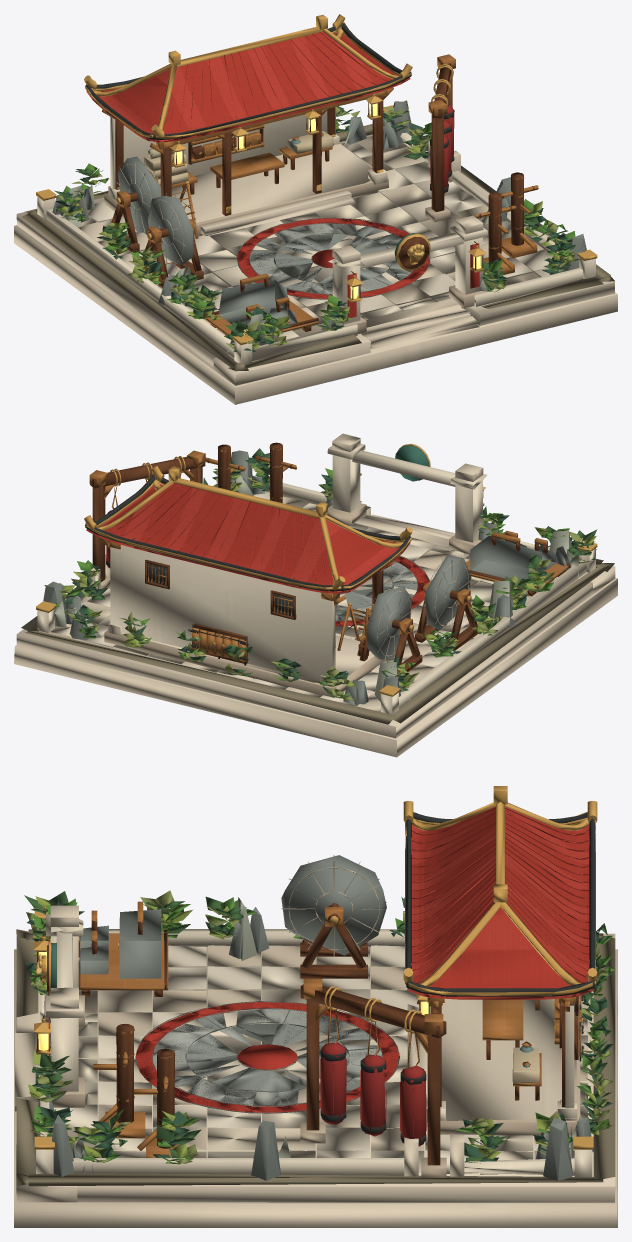
The model's file is martial-lod2-bcf5d50755c1.glb.
3 renders of one model, top to bottom at view 1: azimuth 30°, elevation 25°; view 2: azimuth 150°, elevation 25°; view 3: azimuth 270°, elevation 25°, orthographic. The views are drawn at different scales.
Parts seen in each view (by area): view 1: SM_Martial_MAT_CT2_Stone.008, SM_Martial_MAT_CT2_IvoryPlaster.008, SM_Martial_MAT_CT2_FoldedTerracotta.008, SM_Martial_MAT_CT2_DarkTimber.008, SM_Martial_MAT_CT2_TrainingStone.008, SM_Martial_MAT_CT2_FoldedTerracottaAlt.008, SM_Martial_MAT_CT2_MatteCopper.008, SM_Martial_MAT_CT2_HoneyTimber.008, SM_Martial_MAT_CT2_PlantingSoil.008, SM_Martial_MAT_CT2_PavingTone_1.008, SM_Martial_MAT_CT2_PracticeGreyStoneLight.008, SM_Martial_MAT_CT2_StoneShadow.008 (+16 smaller); view 2: SM_Martial_MAT_CT2_IvoryPlaster.008, SM_Martial_MAT_CT2_Stone.008, SM_Martial_MAT_CT2_FoldedTerracotta.008, SM_Martial_MAT_CT2_TrainingStone.008, SM_Martial_MAT_CT2_DarkTimber.008, SM_Martial_MAT_CT2_FoldedTerracottaAlt.008, SM_Martial_MAT_CT2_PlantingSoil.008, SM_Martial_MAT_CT2_MatteCopper.008, SM_Martial_MAT_CT2_StoneShadow.008, SM_Martial_MAT_CT2_HoneyTimber.008, SM_Martial_MAT_CT2_CharcoalTrim.008, SM_Martial_MAT_CT2_LeafGreen.008 (+13 smaller); view 3: SM_Martial_MAT_CT2_Stone.008, SM_Martial_MAT_CT2_FoldedTerracotta.008, SM_Martial_MAT_CT2_IvoryPlaster.008, SM_Martial_MAT_CT2_TrainingStone.008, SM_Martial_MAT_CT2_FoldedTerracottaAlt.008, SM_Martial_MAT_CT2_DarkTimber.008, SM_Martial_MAT_CT2_PlantingSoil.008, SM_Martial_MAT_CT2_HoneyTimber.008, SM_Martial_MAT_CT2_MatteCopper.008, SM_Martial_MAT_CT2_PavingTone_1.008, SM_Martial_MAT_CT2_PavingTone_3.008, SM_Martial_MAT_CT2_PavingTone_4.008 (+15 smaller).
Boxes of the visible parts, bbox=[...] form: SM_Martial_MAT_CT2_Stone.008: bbox=[14, 134, 617, 404]; SM_Martial_MAT_CT2_IvoryPlaster.008: bbox=[37, 107, 595, 364]; SM_Martial_MAT_CT2_FoldedTerracotta.008: bbox=[103, 32, 479, 317]; SM_Martial_MAT_CT2_DarkTimber.008: bbox=[111, 63, 534, 331]; SM_Martial_MAT_CT2_TrainingStone.008: bbox=[52, 101, 586, 345]; SM_Martial_MAT_CT2_FoldedTerracottaAlt.008: bbox=[86, 32, 450, 184]; SM_Martial_MAT_CT2_MatteCopper.008: bbox=[36, 14, 597, 345]; SM_Martial_MAT_CT2_HoneyTimber.008: bbox=[102, 54, 538, 334]; SM_Martial_MAT_CT2_PlantingSoil.008: bbox=[21, 124, 614, 371]; SM_Martial_MAT_CT2_PavingTone_1.008: bbox=[156, 142, 552, 341]; SM_Martial_MAT_CT2_PracticeGreyStoneLight.008: bbox=[249, 223, 401, 294]; SM_Martial_MAT_CT2_StoneShadow.008: bbox=[104, 143, 487, 333]; SM_Martial_MAT_CT2_IvoryPlaster.008: bbox=[37, 450, 595, 714]; SM_Martial_MAT_CT2_Stone.008: bbox=[14, 433, 617, 757]; SM_Martial_MAT_CT2_FoldedTerracotta.008: bbox=[90, 483, 429, 626]; SM_Martial_MAT_CT2_TrainingStone.008: bbox=[43, 450, 571, 705]; SM_Martial_MAT_CT2_DarkTimber.008: bbox=[90, 442, 570, 672]; SM_Martial_MAT_CT2_FoldedTerracottaAlt.008: bbox=[86, 483, 410, 593]; SM_Martial_MAT_CT2_PlantingSoil.008: bbox=[21, 484, 614, 724]; SM_Martial_MAT_CT2_MatteCopper.008: bbox=[36, 443, 597, 696]; SM_Martial_MAT_CT2_StoneShadow.008: bbox=[100, 503, 481, 697]; SM_Martial_MAT_CT2_HoneyTimber.008: bbox=[89, 446, 568, 662]; SM_Martial_MAT_CT2_CharcoalTrim.008: bbox=[85, 474, 411, 665]; SM_Martial_MAT_CT2_LeafGreen.008: bbox=[64, 448, 597, 694]; SM_Martial_MAT_CT2_Stone.008: bbox=[14, 905, 617, 1227]; SM_Martial_MAT_CT2_FoldedTerracotta.008: bbox=[48, 808, 593, 1113]; SM_Martial_MAT_CT2_IvoryPlaster.008: bbox=[36, 927, 592, 1177]; SM_Martial_MAT_CT2_TrainingStone.008: bbox=[44, 855, 593, 1180]; SM_Martial_MAT_CT2_FoldedTerracottaAlt.008: bbox=[320, 806, 593, 1136]; SM_Martial_MAT_CT2_DarkTimber.008: bbox=[37, 903, 578, 1165]; SM_Martial_MAT_CT2_PlantingSoil.008: bbox=[16, 929, 615, 1186]; SM_Martial_MAT_CT2_HoneyTimber.008: bbox=[79, 901, 581, 1157]; SM_Martial_MAT_CT2_MatteCopper.008: bbox=[34, 786, 597, 1149]; SM_Martial_MAT_CT2_PavingTone_1.008: bbox=[98, 945, 587, 1173]; SM_Martial_MAT_CT2_PavingTone_3.008: bbox=[54, 945, 478, 1173]; SM_Martial_MAT_CT2_PavingTone_4.008: bbox=[79, 945, 587, 1149].
Bounding box in the file's own units: 9.98 × 4.8 × 9.98.
34 materials, 12 textured.
